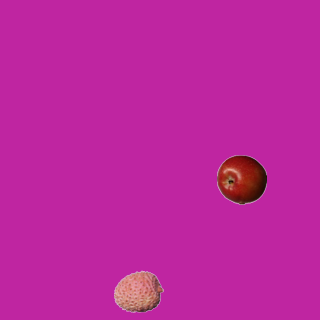Apple Braeburn: (216, 154, 266, 204)
Lychee: (113, 266, 163, 316)
